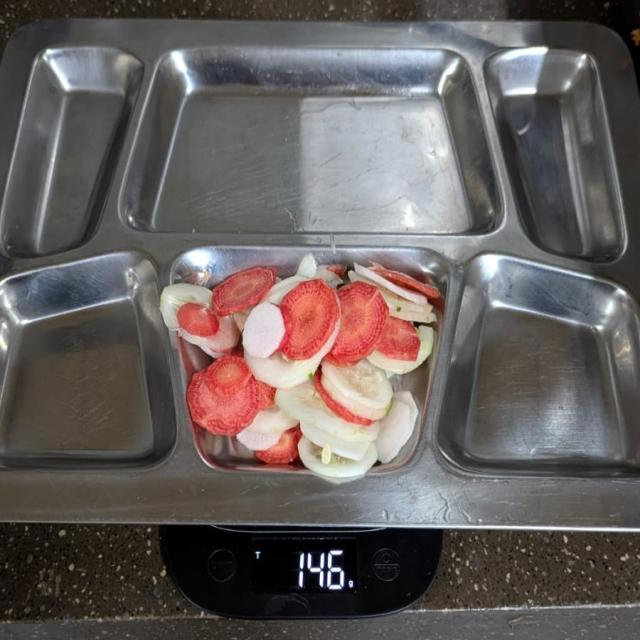Salad: (155, 251, 441, 485)
